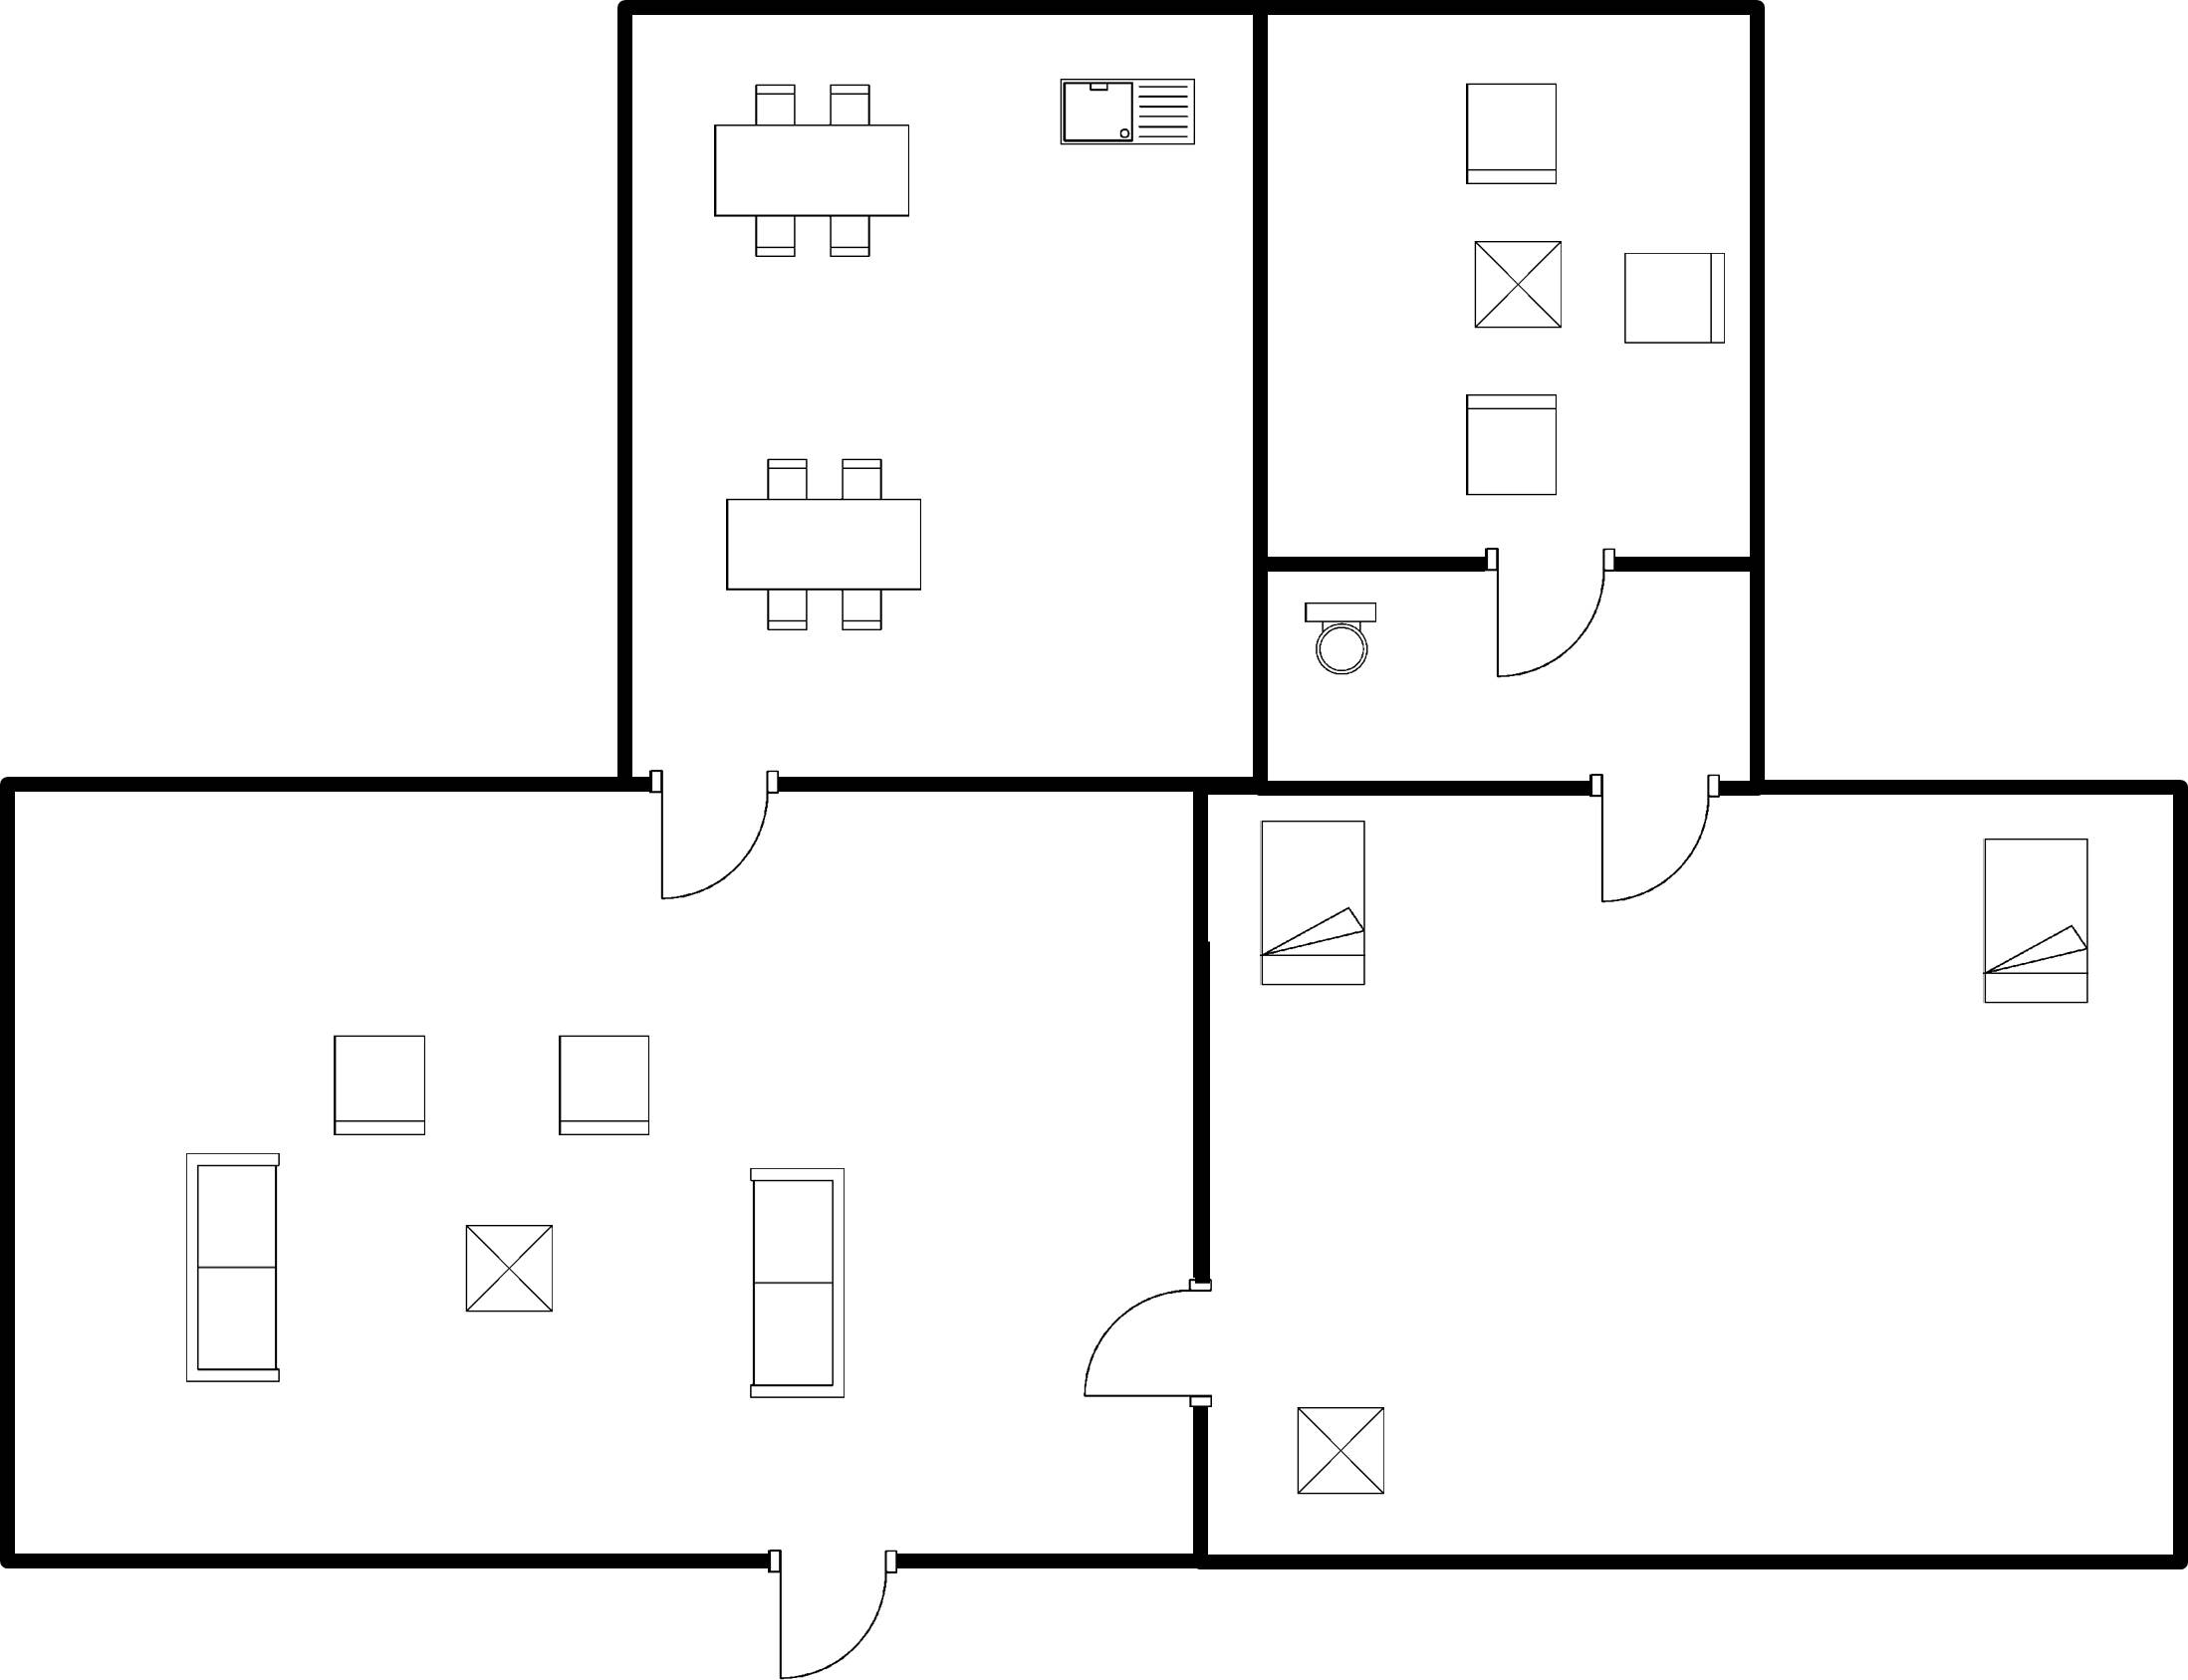bed: (1973, 828, 2100, 1018), (1250, 812, 1378, 996)
coffee_table: (453, 1215, 566, 1327), (1460, 232, 1575, 342), (1287, 1389, 1398, 1504)
dining_table: (696, 72, 925, 273), (714, 447, 929, 645)
large_sink: (1287, 590, 1386, 686)
large_sofa: (165, 1140, 296, 1394), (737, 1156, 859, 1409)
sink: (1051, 67, 1202, 160)
small_sofa: (1452, 384, 1570, 511), (549, 1026, 662, 1153), (323, 1026, 436, 1151), (1617, 239, 1735, 358), (1452, 74, 1567, 194)
